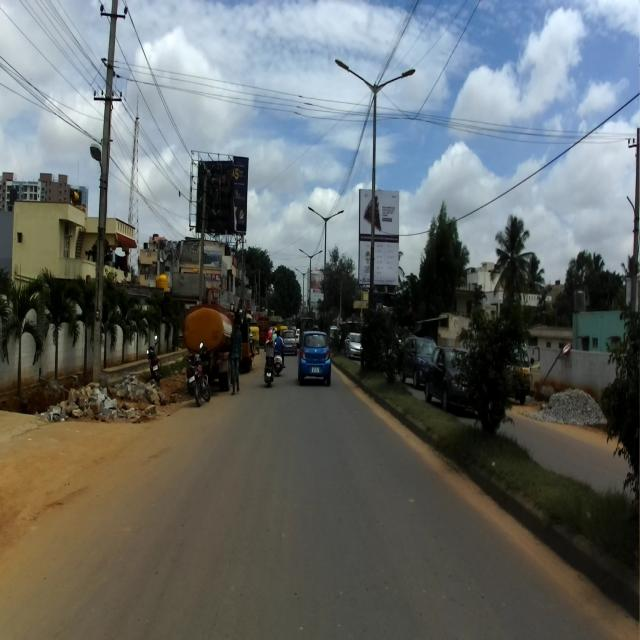Car_Maruti-Suzuki: (295, 328, 335, 384)
Car_Volkswagen: (425, 344, 484, 421)
motorcycle_Hero: (184, 341, 211, 408), (144, 334, 163, 384)
